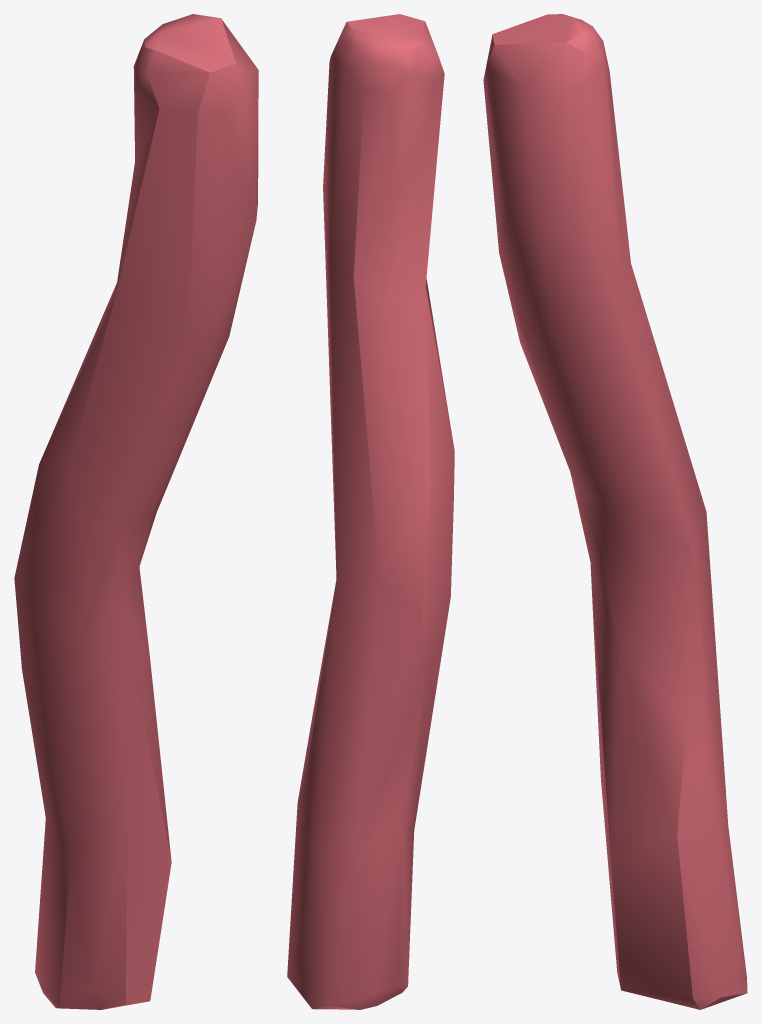
The model's file is fma75867_fj3483.glb.
3 views of the same model, side by side, from view 1: azimuth 30°, elevation 25°; view 2: azimuth 150°, elevation 25°; view 3: azimuth 270°, elevation 25° (orthographic). The views are drawn at different scales.
Visible parts, largest first — view 1: FMA75867_FJ3483; view 2: FMA75867_FJ3483; view 3: FMA75867_FJ3483.
Part boxes in pixels (<box>): FMA75867_FJ3483: <box>14,14,258,1009</box>; FMA75867_FJ3483: <box>287,14,454,1009</box>; FMA75867_FJ3483: <box>483,14,747,1009</box>.
Bounding box in the file's own units: 0.0121 × 0.0663 × 0.0162.
